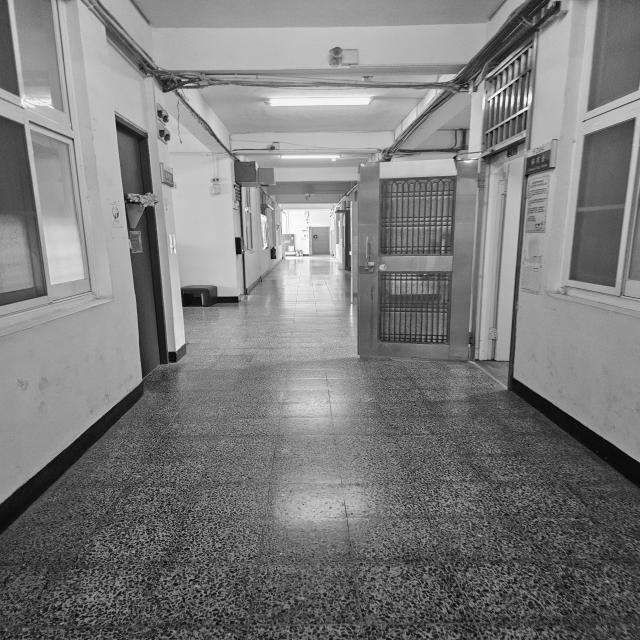Road-Object: (2, 259, 638, 640)
